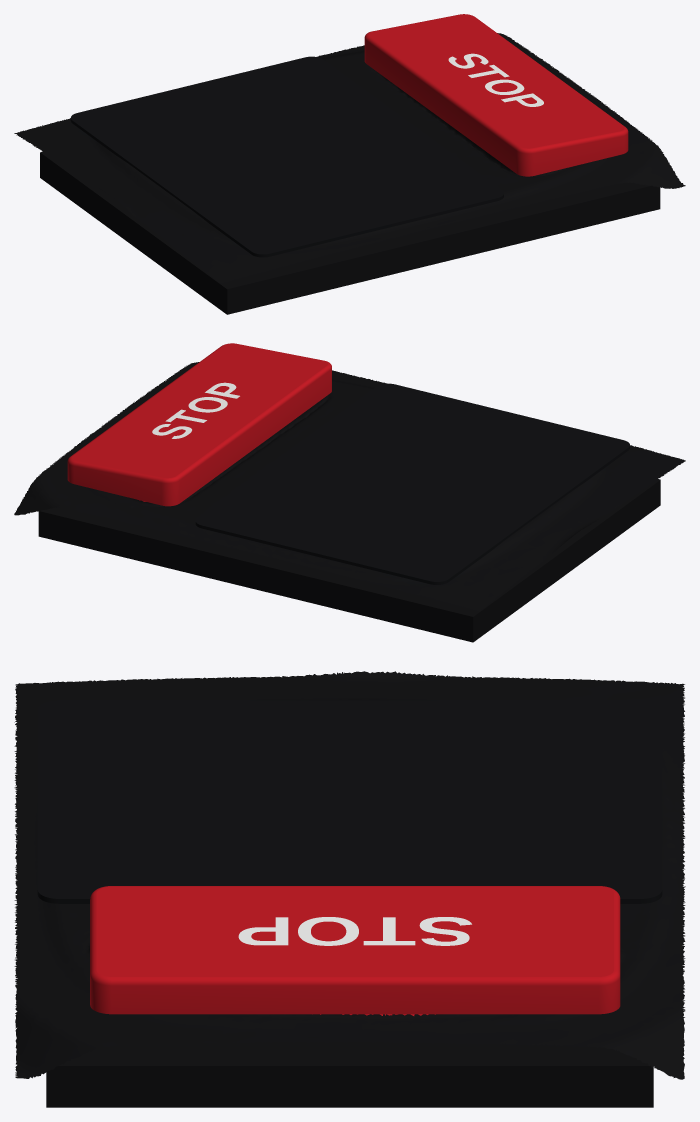
File: panel.glb
3 views of the same model, one above another, from view 1: azimuth 30°, elevation 25°; view 2: azimuth 150°, elevation 25°; view 3: azimuth 270°, elevation 25° (orthographic). The views are drawn at different scales.
Visible parts, largest first — view 1: ControlsSI, Controls, CtlTower, StopLegend; view 2: ControlsSI, Controls, CtlTower, StopLegend; view 3: ControlsSI, Controls, CtlTower, StopLegend.
Part boxes in pixels (bbox=[...]): ControlsSI: bbox=[70, 14, 628, 257]; Controls: bbox=[14, 33, 685, 283]; CtlTower: bbox=[40, 151, 660, 314]; StopLegend: bbox=[448, 53, 543, 106]; ControlsSI: bbox=[67, 343, 629, 584]; Controls: bbox=[14, 362, 685, 611]; CtlTower: bbox=[38, 479, 660, 642]; StopLegend: bbox=[152, 382, 239, 438]; ControlsSI: bbox=[37, 700, 662, 1014]; Controls: bbox=[14, 671, 685, 1079]; CtlTower: bbox=[46, 1041, 653, 1107]; StopLegend: bbox=[238, 917, 471, 945].
Size of the model in its own units: 0.1628 by 0.0257 by 0.1247.
